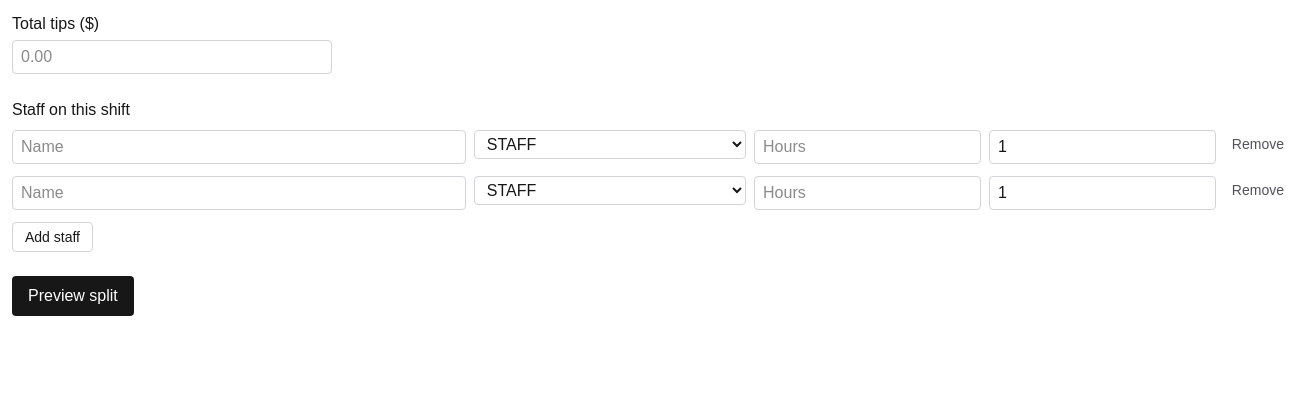
Scenario: ShiftPreviewForm › shows a clear error instead of a table when a manager is in the list
Type "100.00" into the field labelled "Total tips ($)" at (172, 57), box [12,40,332,74]
Type "Ana" into the field named "Staff 1 name" at (239, 147), box [12,130,466,164]
Type "6" into the field named "Staff 1 hours" at (868, 147), box [754,130,981,164]
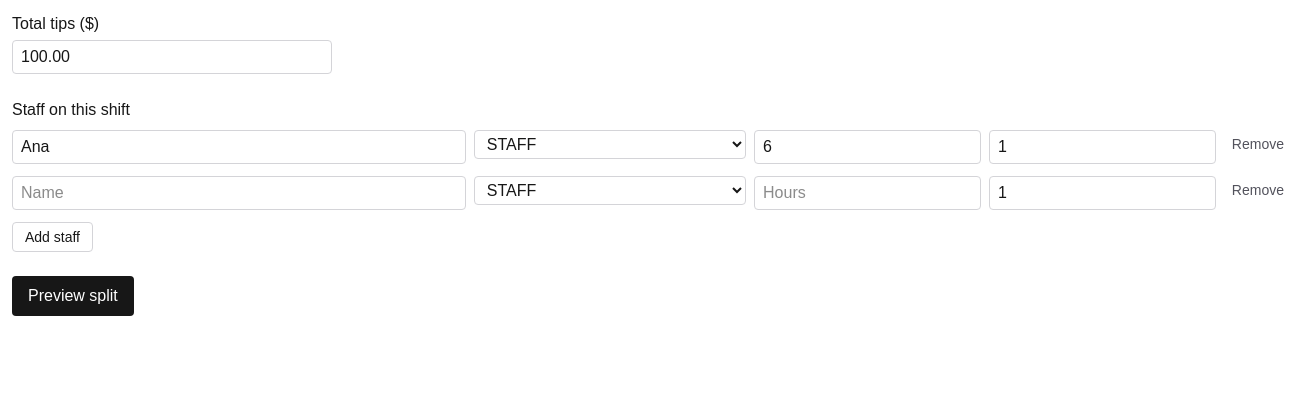
Type "Ben" into the field named "Staff 2 name" at (239, 193), box [12,176,466,210]
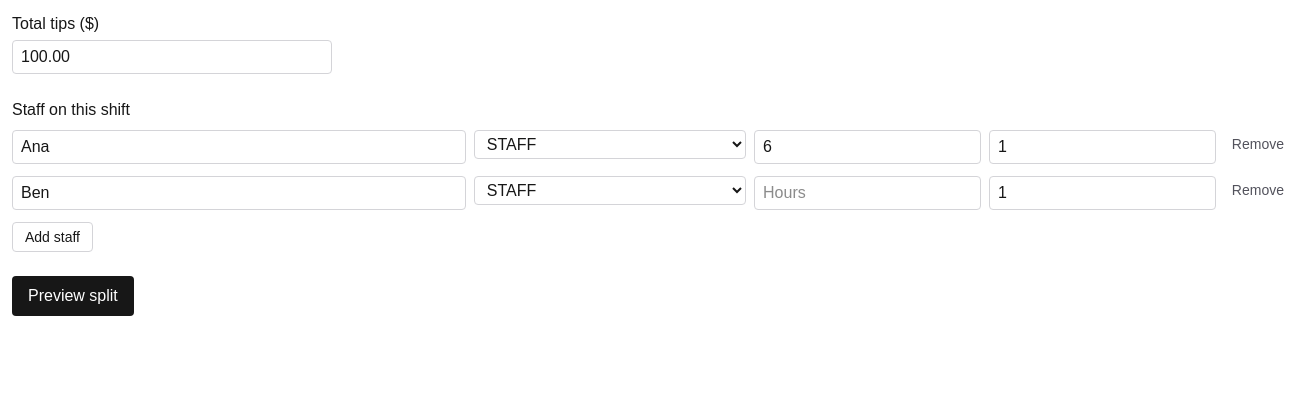
Type "4" into the field named "Staff 2 hours" at (868, 193), box [754,176,981,210]
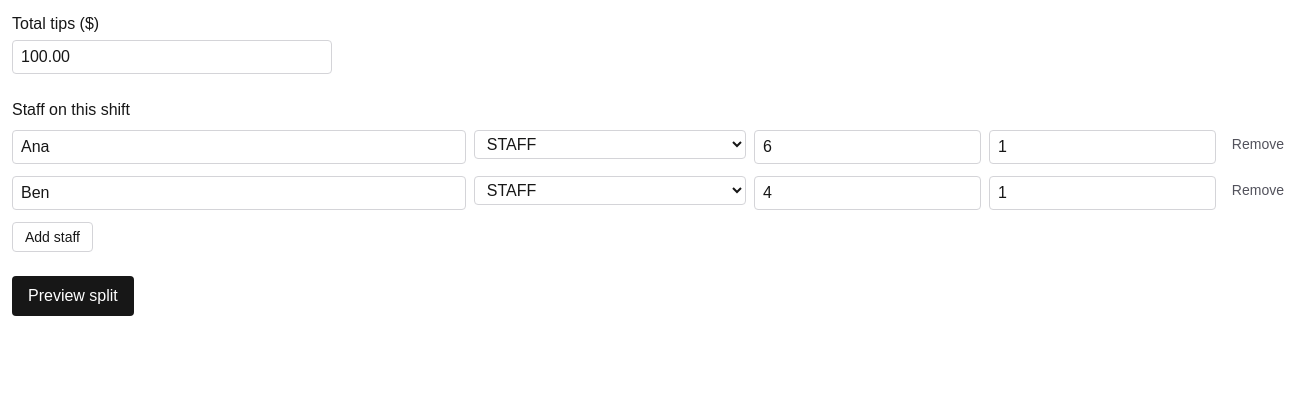
Replace the text in the field named "Staff 2 name" with "Dana" at (239, 193), box [12,176,466,210]
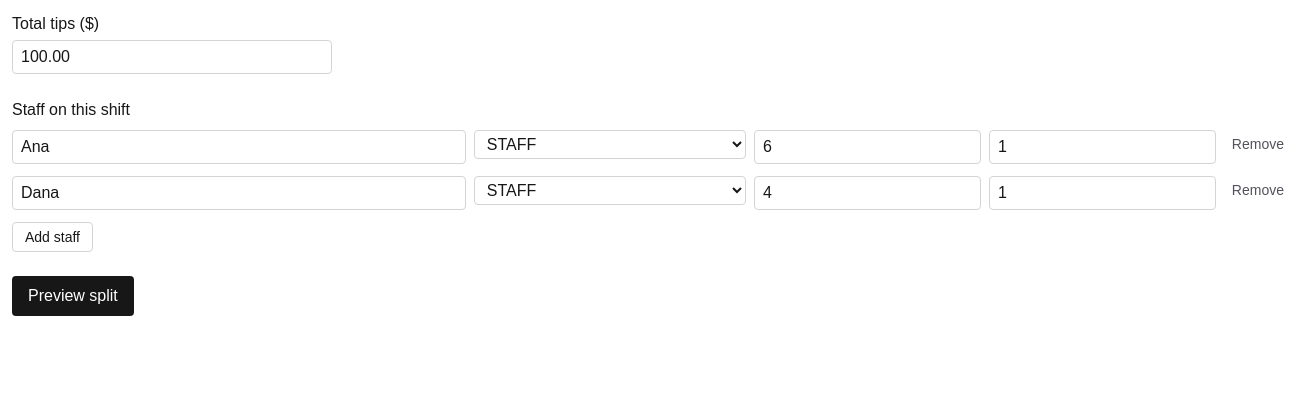
Select "MANAGER" in the dropdown named "Staff 2 role" at (610, 190), box [474,176,746,205]
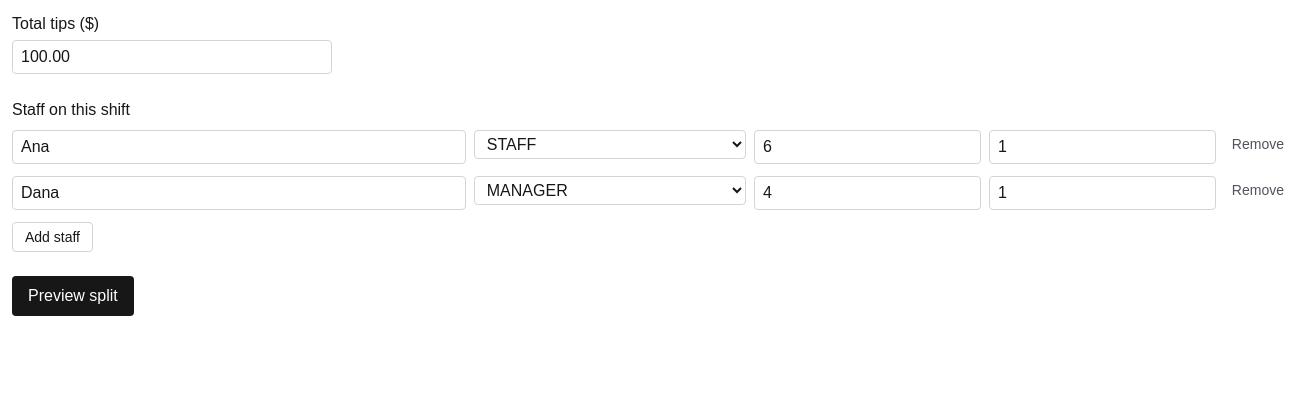
Click the button "Preview split" at (73, 296), box [12,276,134,316]
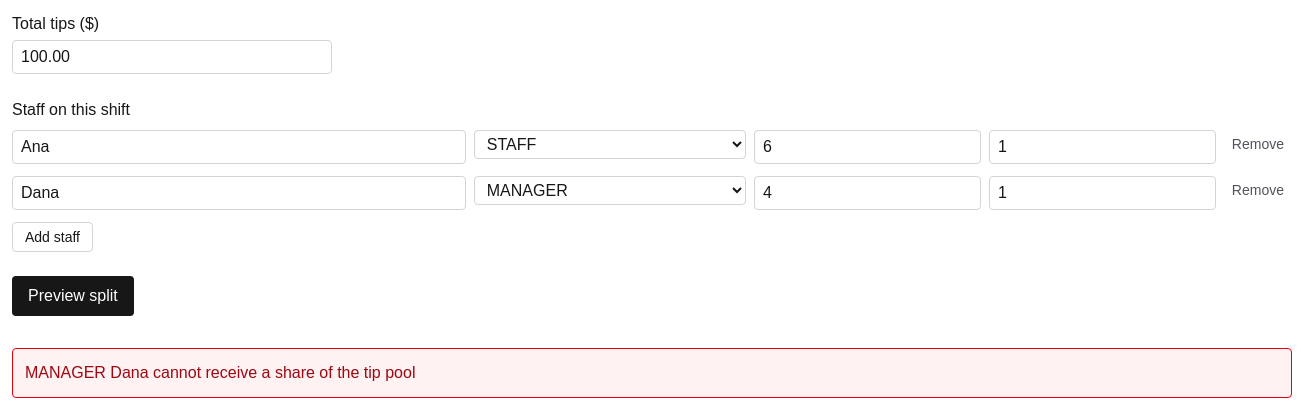
Result: the message reads "MANAGER Dana cannot receive a share of the tip pool" at [25,364,415,381]
